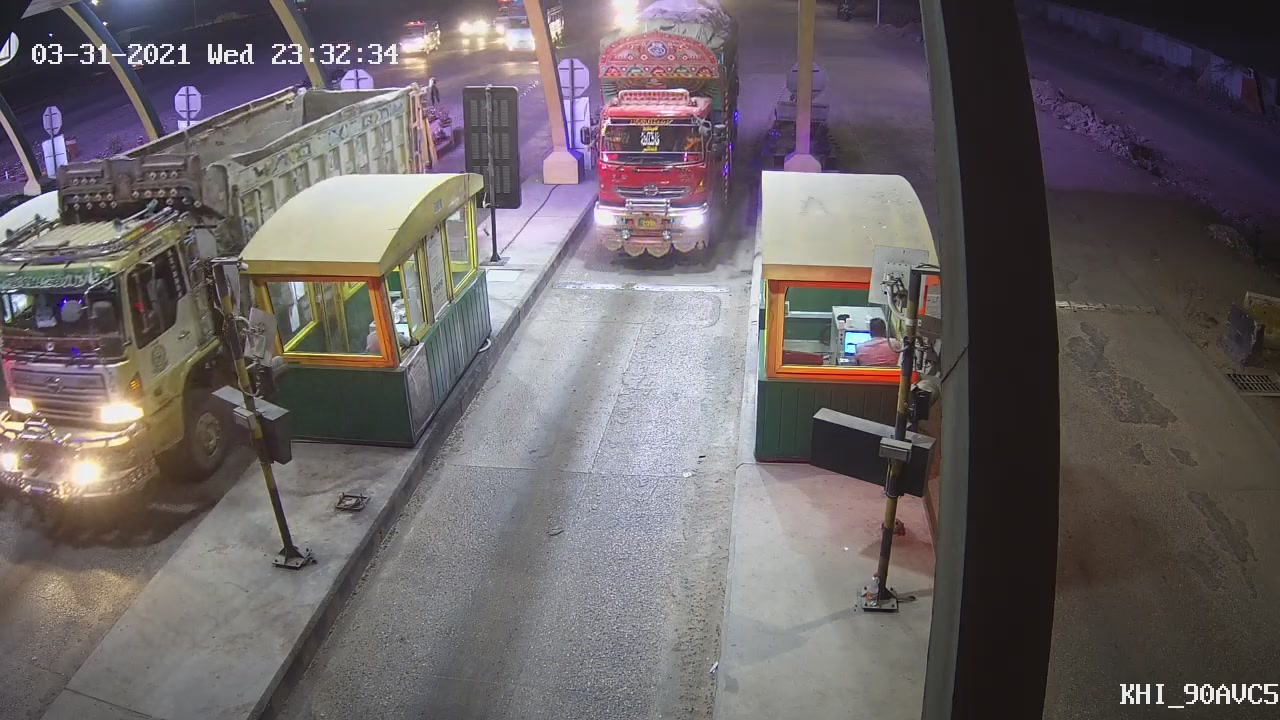F5: (575, 2, 749, 266)
